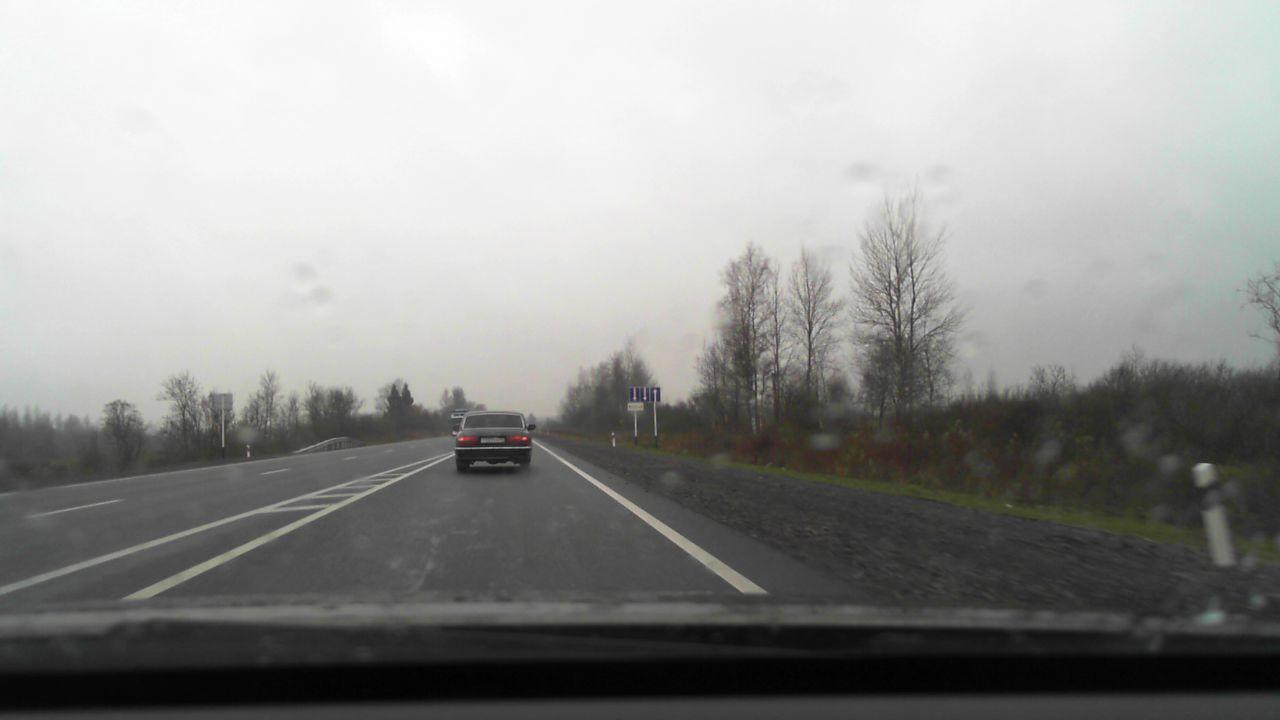5_15_7: (629, 386, 660, 402)
8_2_1: (628, 403, 644, 413)
